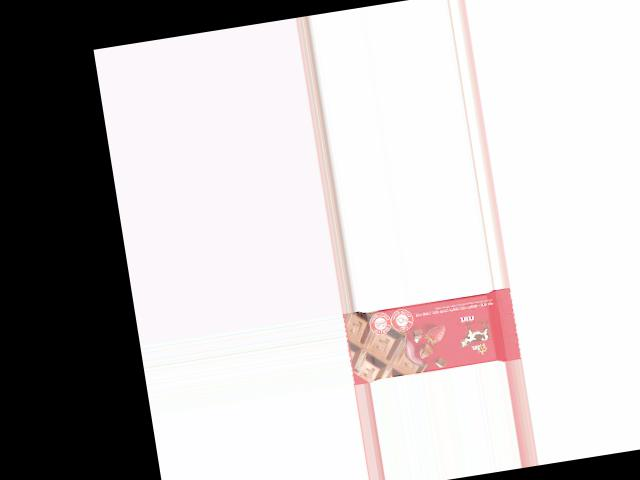chocolate: (344, 286, 522, 384)
